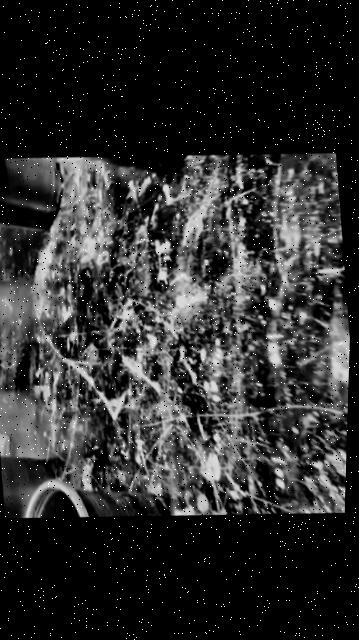pot: (0, 440, 73, 525), (24, 481, 166, 519), (0, 151, 63, 236)
